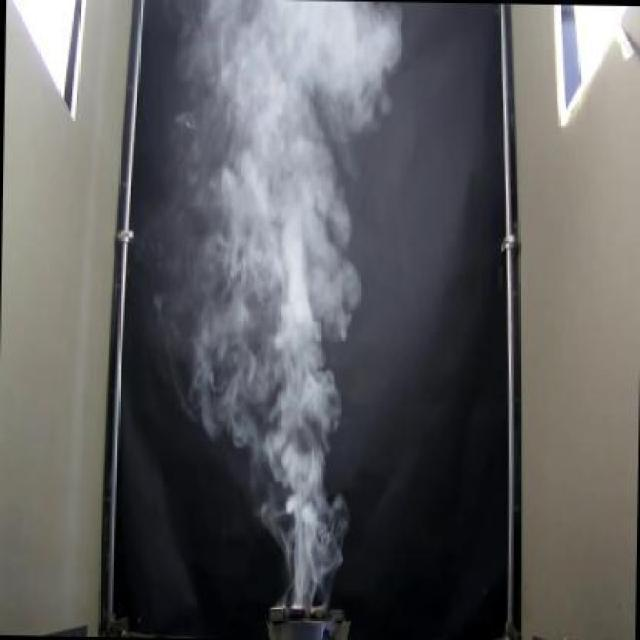fire: (168, 0, 414, 569)
